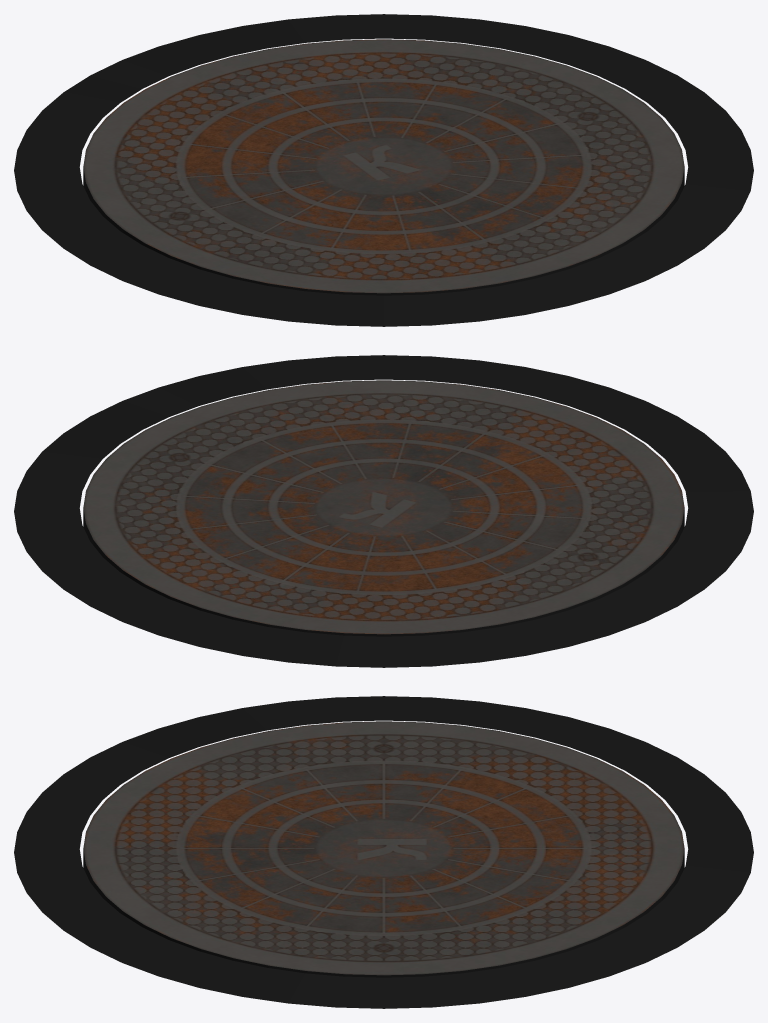
The model's file is manhole_web.glb.
3 views of the same model, one above another, from view 1: azimuth 30°, elevation 25°; view 2: azimuth 150°, elevation 25°; view 3: azimuth 270°, elevation 25° (orthographic).
Parts seen in each view (by area): view 1: Manhole_Mesh; view 2: Manhole_Mesh; view 3: Manhole_Mesh.
Boxes of the visible parts, x1=… form: Manhole_Mesh: x1=14, y1=14, x2=753, y2=326; Manhole_Mesh: x1=14, y1=355, x2=753, y2=667; Manhole_Mesh: x1=14, y1=696, x2=753, y2=1008.
Size of the model in its own units: 0.8 by 0.03 by 0.8.
Materials: 1 (1 with a texture image).
